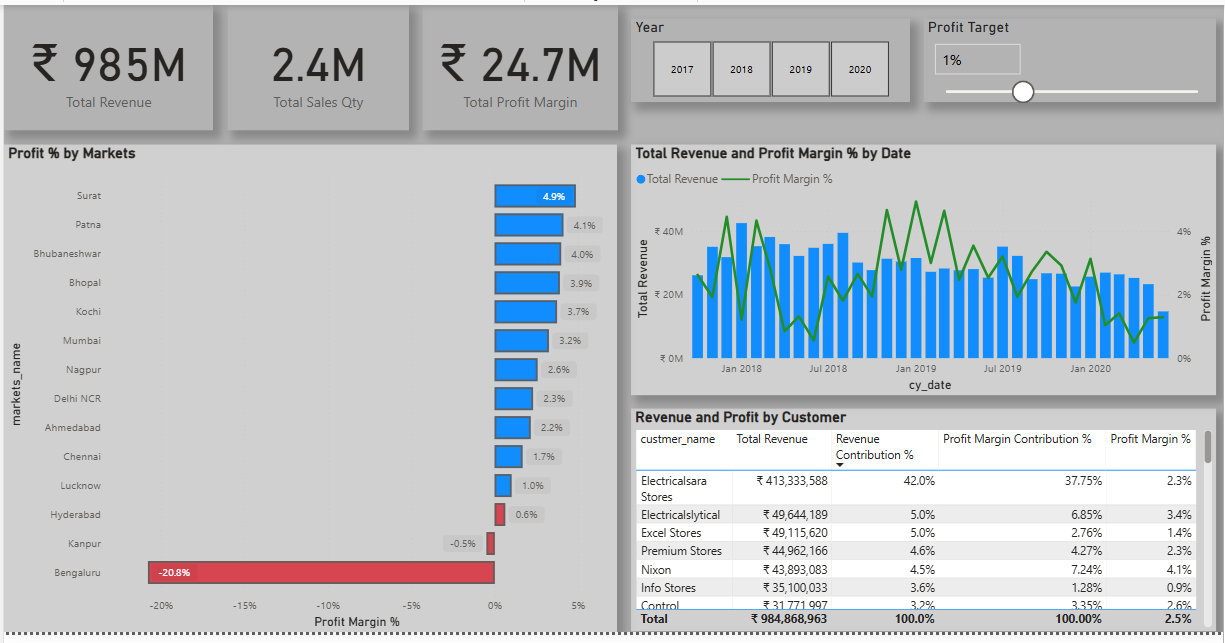

This screenshot's page, from the dashboard's own definition file:
{"tool":"powerbi","page":{"name":"Profit Analysis","canvas":[1400,720],"ordinal":1},"visuals":[{"type":"card","fields":{"Values":["PrimaryMeasures.Total Revenue"]},"box":[0,0,240,144],"z":0},{"type":"card","fields":{"Values":["PrimaryMeasures.Total Sales Qty"]},"box":[256,0,208,144],"z":1000},{"type":"card","fields":{"Values":["PrimaryMeasures.Total Profit Margin"]},"box":[480,0,224,144],"z":2000},{"type":"slicer","title":"Year","fields":{"Values":["sales date.year"]},"box":[720,16,320,96],"z":3000},{"type":"tableEx","title":"Revenue and Profit by Customer","fields":{"Values":["sales customers.custmer_name","PrimaryMeasures.Total Revenue","PrimaryMeasures.Revenue Contribution %","PrimaryMeasures.Profit Margin Contribution %","PrimaryMeasures.Profit Margin %"]},"box":[720,464,672,256],"z":4000},{"type":"clusteredBarChart","title":"Profit % by Markets","fields":{"Category":["sales markets.markets_name","sales markets.zone"],"Y":["PrimaryMeasure.Profit Margin %"]},"box":[0,160,704,560],"z":5000},{"type":"lineClusteredColumnComboChart","title":"Total Revenue and Profit Margin % by Date","fields":{"Category":["sales date.cy_date"],"Y":["PrimaryMeasure.Total Revenue"],"Y2":["PrimaryMeasure.Profit Margin %"]},"box":[720,160,672,288],"z":6000},{"type":"slicer","title":"Profit Target","fields":{"Values":["Profit Target.Profit Target"]},"box":[1056,16,336,96],"z":7000}]}

Visuals, with their boxes in screenshot pixels (x1, y1, x2, y2), scaled from the page's 1400x720 canvas onto the 1225x643 screenshot:
card - PrimaryMeasures.Total Revenue: [left=0, top=0, right=210, bottom=129]
card - PrimaryMeasures.Total Sales Qty: [left=224, top=0, right=406, bottom=129]
card - PrimaryMeasures.Total Profit Margin: [left=420, top=0, right=616, bottom=129]
"Year" slicer: [left=630, top=14, right=910, bottom=100]
"Revenue and Profit by Customer" tableEx: [left=630, top=414, right=1218, bottom=642]
"Profit % by Markets" clusteredBarChart: [left=0, top=143, right=616, bottom=642]
"Total Revenue and Profit Margin % by Date" lineClusteredColumnComboChart: [left=630, top=143, right=1218, bottom=400]
"Profit Target" slicer: [left=924, top=14, right=1218, bottom=100]
